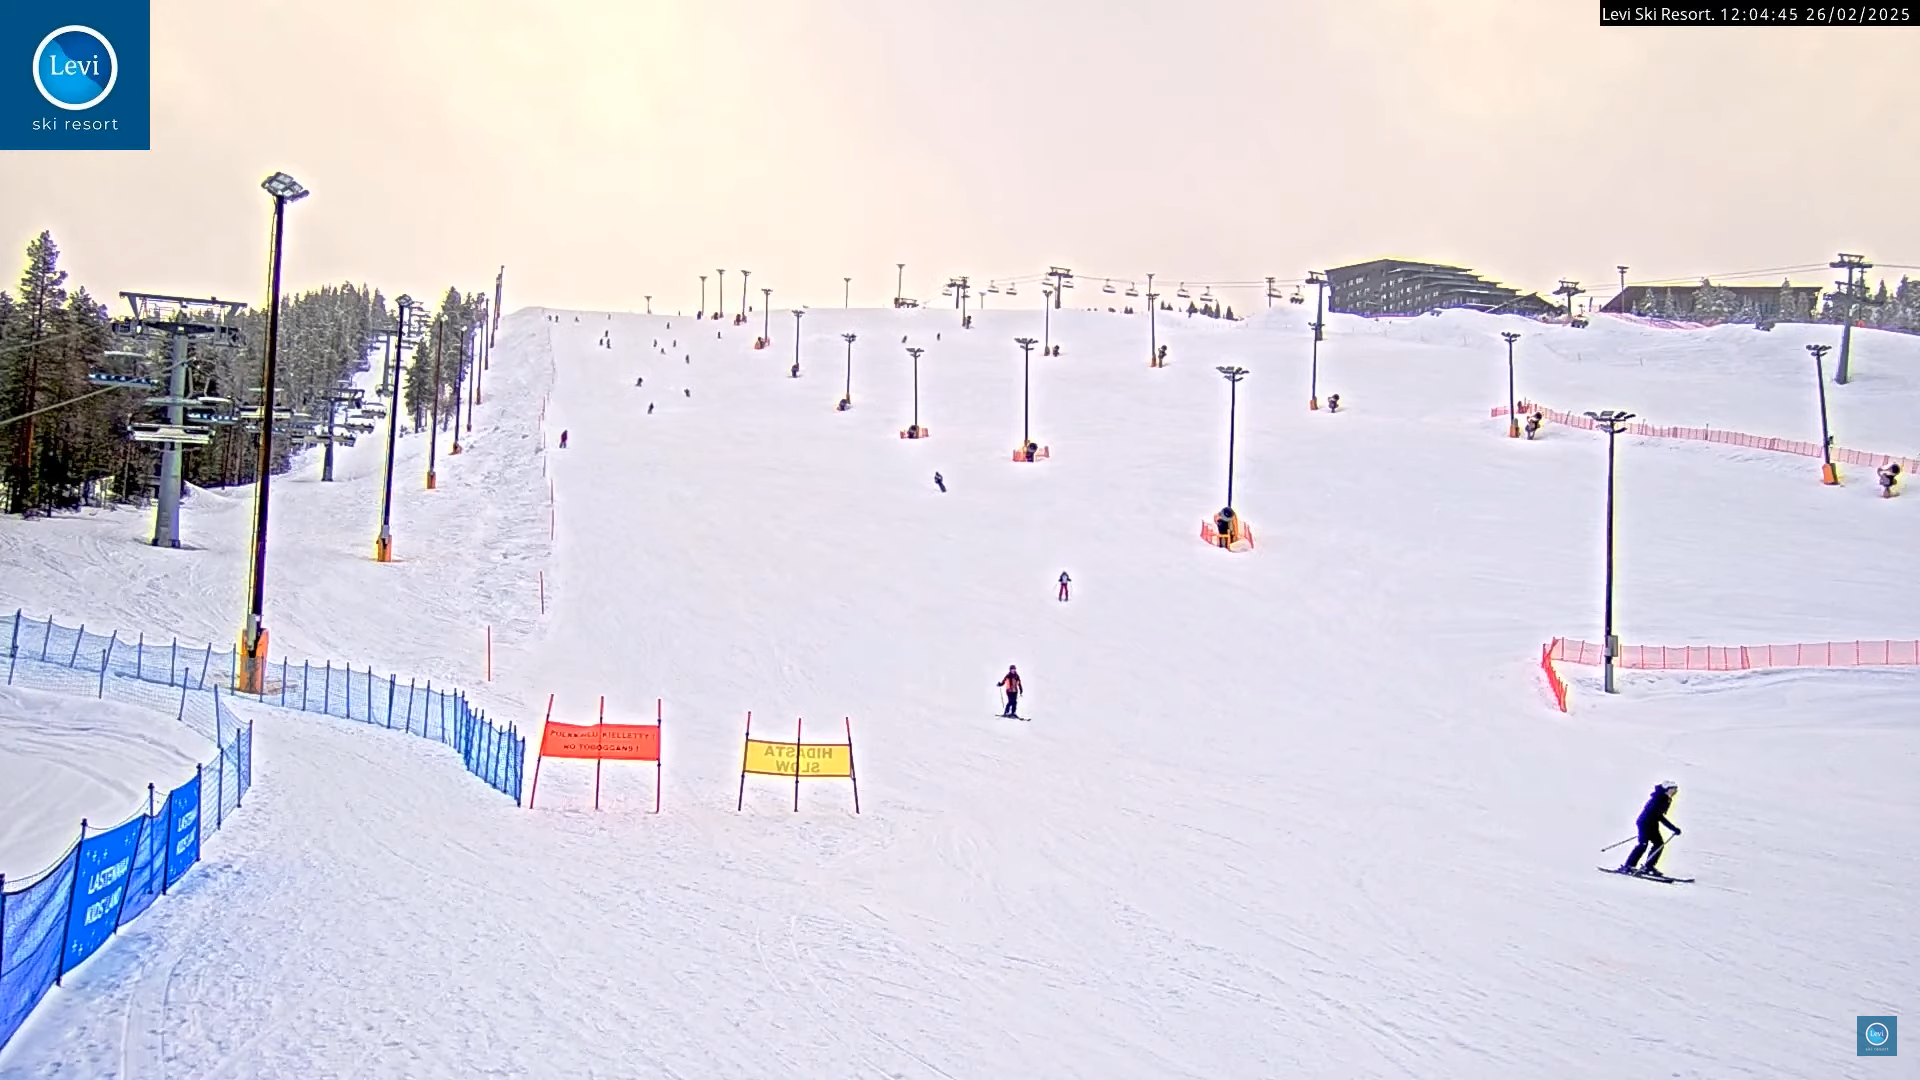skier: (1600, 779, 1709, 898)
